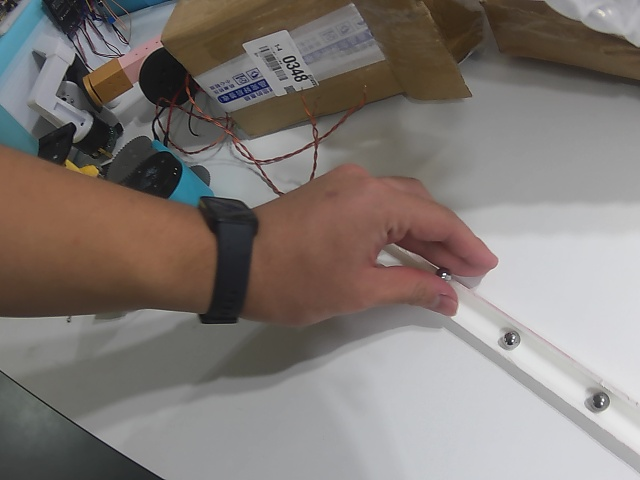steelball: (500, 328, 522, 350), (589, 390, 609, 410)
